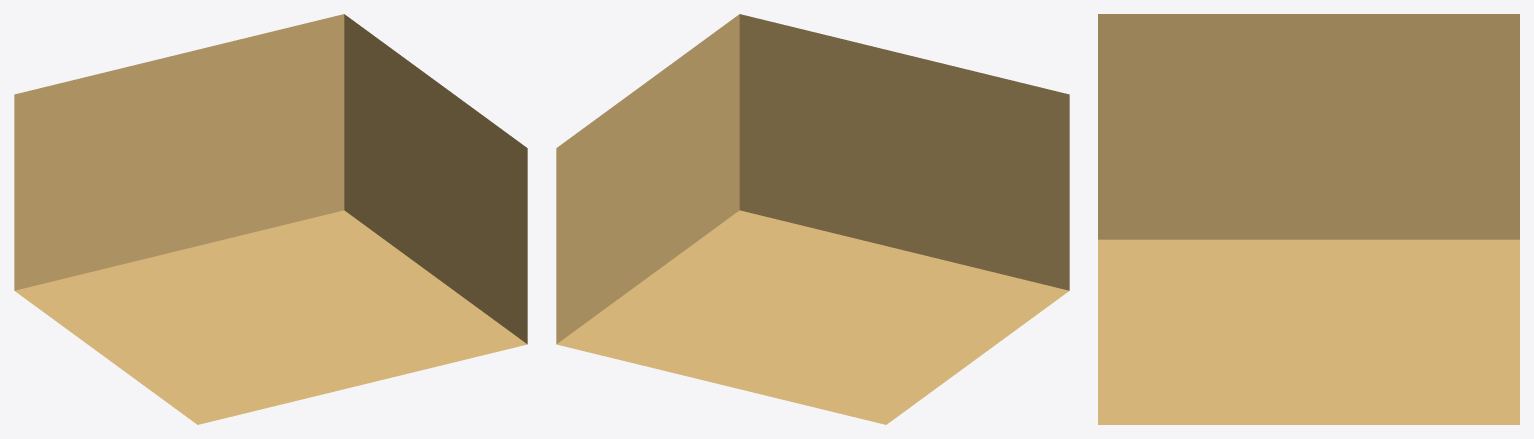
The model's file is mandaps-sacred-agni-012.glb.
The picture shows the model from 3 angles, left to right: view 1: azimuth 30°, elevation 25°; view 2: azimuth 150°, elevation 25°; view 3: azimuth 270°, elevation 25°; orthographic projection. The views are drawn at different scales.
Visible parts, largest first — view 1: Sacred Agni Mandaps; view 2: Sacred Agni Mandaps; view 3: Sacred Agni Mandaps.
Part boxes in pixels (<box>): Sacred Agni Mandaps: <box>14,14,527,424</box>; Sacred Agni Mandaps: <box>556,14,1069,424</box>; Sacred Agni Mandaps: <box>1098,14,1519,424</box>.
Bounding box in the file's own units: 13.05 × 7.42 × 12.56.
